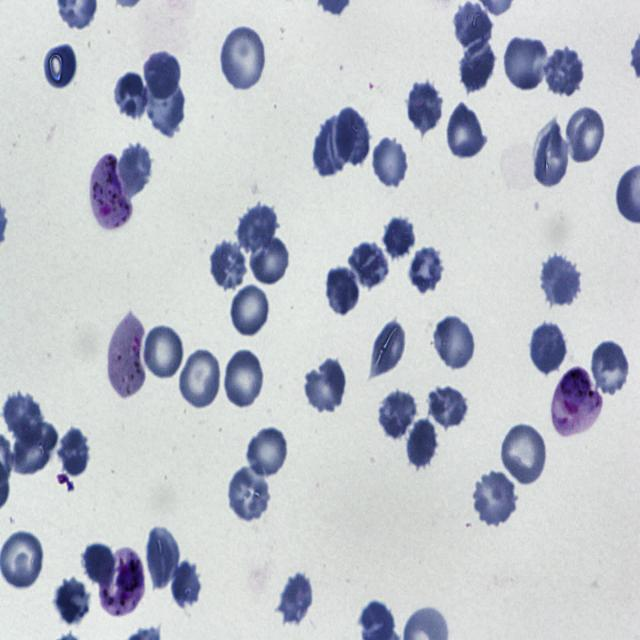gametocyte: (552, 364, 604, 436)
red blood cell: (218, 24, 268, 93), (500, 422, 549, 487), (530, 116, 572, 188), (178, 346, 224, 411), (502, 33, 552, 92), (471, 469, 519, 527), (302, 355, 349, 414), (145, 73, 187, 138), (222, 348, 266, 410), (588, 338, 632, 400), (431, 312, 478, 370), (444, 101, 488, 161), (564, 104, 606, 166), (12, 420, 58, 476), (142, 323, 186, 381), (229, 464, 271, 522), (538, 252, 582, 307), (313, 116, 352, 177), (247, 230, 290, 285), (229, 282, 271, 338), (402, 79, 444, 135), (247, 424, 290, 478), (542, 47, 586, 99), (116, 142, 155, 200), (236, 201, 278, 254), (207, 240, 248, 294), (336, 105, 370, 170), (145, 527, 180, 590), (376, 388, 419, 439), (453, 0, 493, 53), (425, 382, 469, 430), (371, 135, 410, 189), (369, 319, 406, 375), (459, 39, 496, 93), (276, 572, 313, 626), (530, 322, 567, 375), (112, 67, 148, 121), (324, 267, 362, 318), (348, 243, 388, 291), (406, 245, 446, 293), (144, 50, 182, 99), (44, 38, 78, 92), (5, 392, 41, 443), (406, 418, 440, 471), (56, 427, 90, 479), (379, 214, 414, 262), (56, 578, 90, 624), (170, 561, 202, 608), (82, 541, 113, 584)
ring: (104, 309, 149, 398)
trophozoite: (89, 154, 132, 232), (100, 546, 144, 613)
